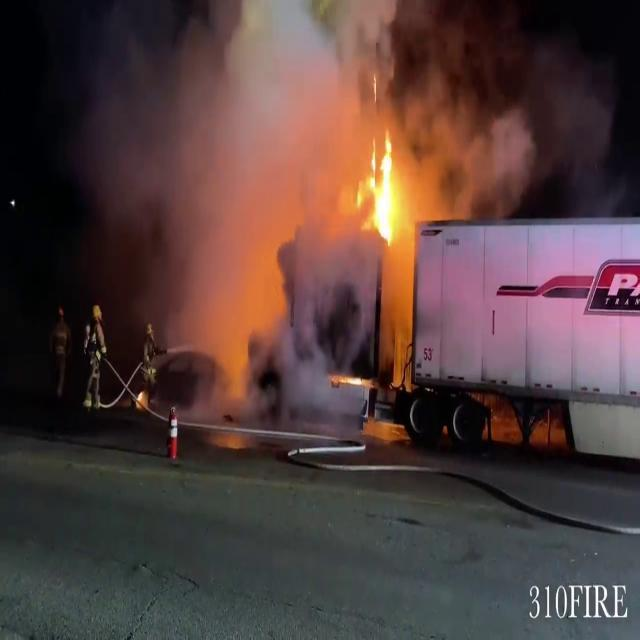Fire: (357, 131, 409, 250)
Smoke: (113, 0, 372, 356), (400, 2, 640, 239)
